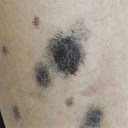Melanoma: (51, 32, 83, 75), (82, 106, 104, 128), (35, 62, 53, 86)
